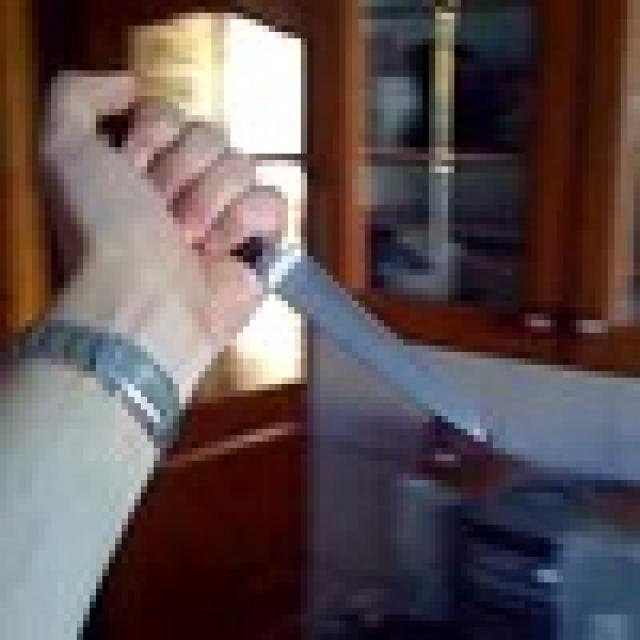Knife: (109, 102, 486, 454)
